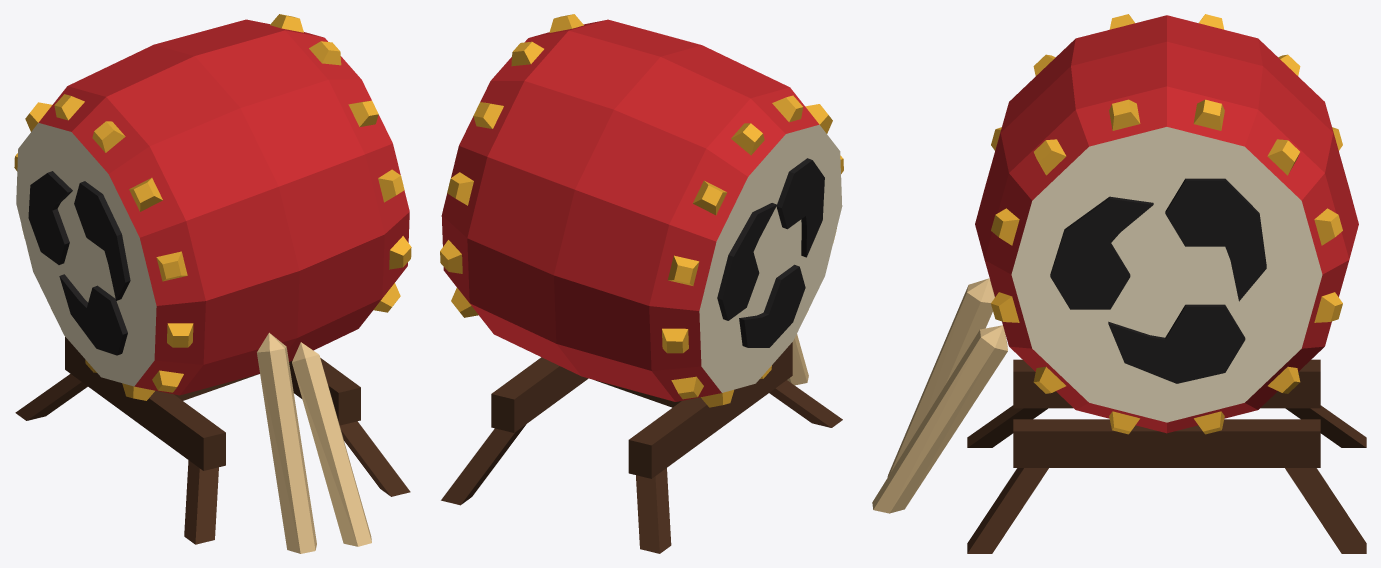
Rendered from taiko-drum.glb.
The picture shows the model from 3 angles, left to right: view 1: azimuth 30°, elevation 25°; view 2: azimuth 150°, elevation 25°; view 3: azimuth 270°, elevation 25°; orthographic projection. The views are drawn at different scales.
Visible parts, largest first — view 1: Body, Skin, Stand, Sticks, Symbol, Studs; view 2: Body, Stand, Skin, Symbol, Studs, Sticks; view 3: Skin, Body, Stand, Symbol, Sticks, Studs.
Part boxes in pixels (x1,y1,x2,y2): Body: (38,19,409,395); Skin: (16,123,156,386); Stand: (15,336,410,544); Sticks: (257,332,371,553); Symbol: (28,171,130,355); Studs: (14,14,411,400); Body: (441,19,819,401); Stand: (441,342,842,553); Skin: (699,124,842,392); Symbol: (717,158,824,347); Studs: (440,14,843,407); Sticks: (787,334,808,385); Skin: (1011,127,1322,422); Body: (975,15,1358,433); Stand: (967,359,1366,553); Symbol: (1050,178,1266,383); Sticks: (872,278,1007,513); Studs: (991,14,1342,434).
Bounding box in the file's own units: 3.78 × 5.15 × 5.15.
